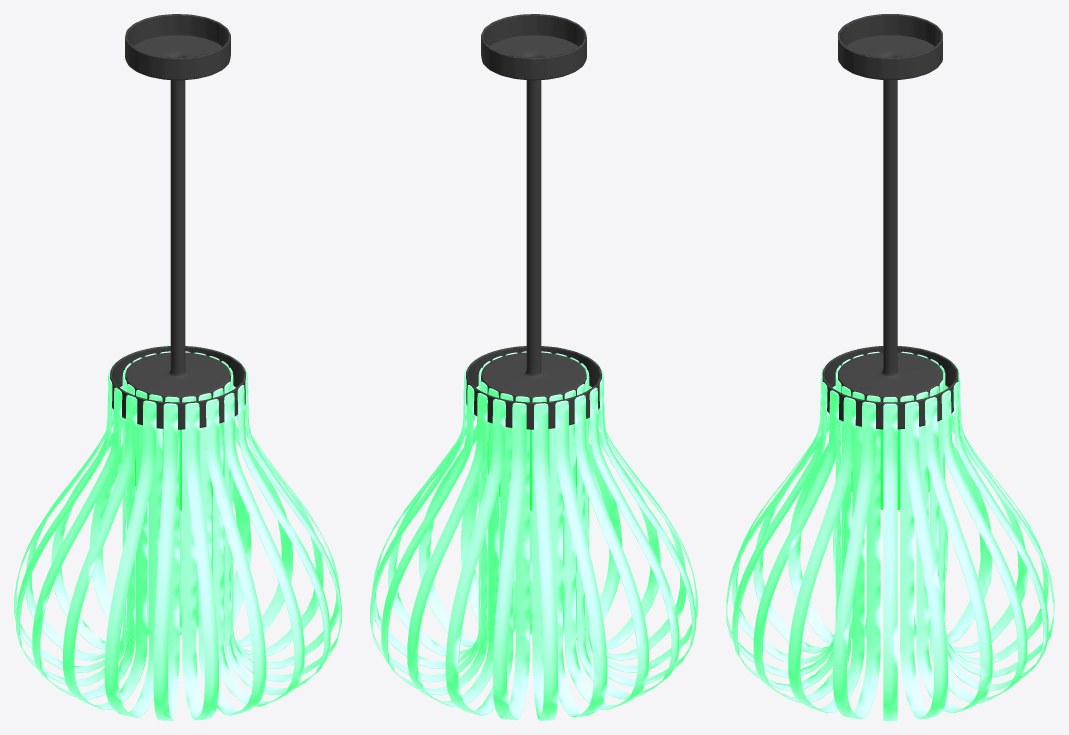
Rendered from Chandelier.fbx.
3 views of the same model, side by side, from view 1: azimuth 30°, elevation 25°; view 2: azimuth 150°, elevation 25°; view 3: azimuth 270°, elevation 25° (orthographic).
Visible parts, largest first — view 1: Lace, Wire; view 2: Lace, Wire; view 3: Lace, Wire, Bulb.
Boxes of the visible parts, x1,y1,x2,y2 form: Lace: [14, 345, 341, 720]; Wire: [110, 14, 245, 429]; Lace: [370, 345, 697, 720]; Wire: [466, 14, 601, 429]; Lace: [726, 346, 1054, 720]; Wire: [822, 14, 958, 429]; Bulb: [841, 429, 939, 509].
Bounding box in the file's own units: 0.3247 × 0.3247 × 0.6971.
